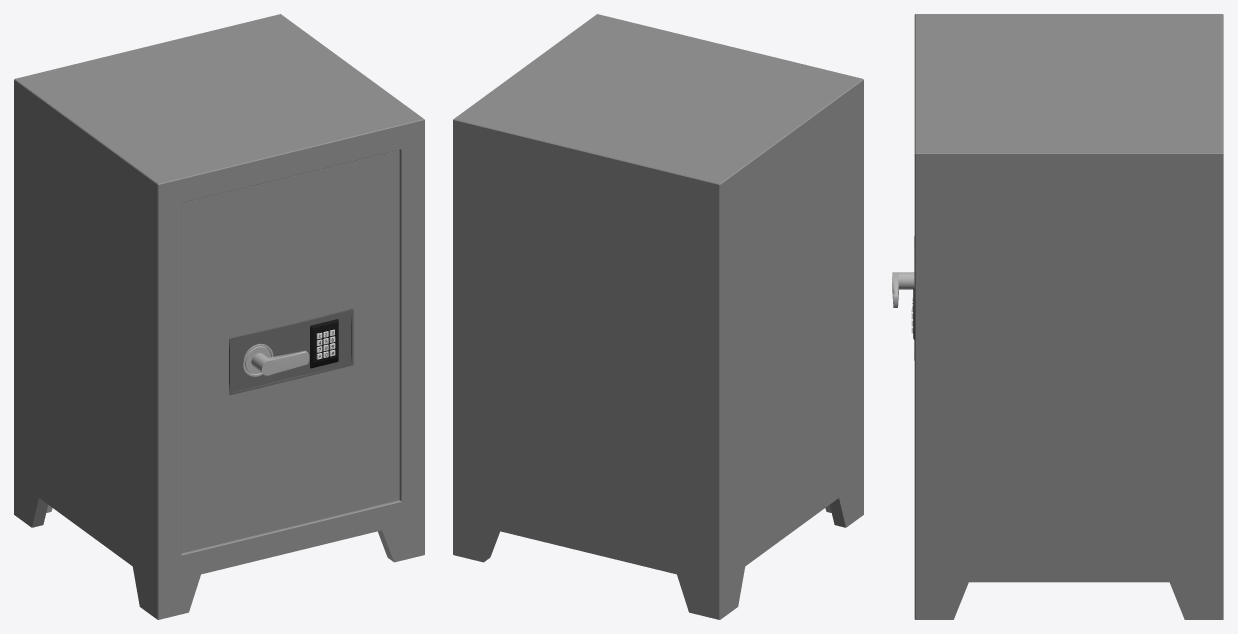
File: sweethome3d-scopia-safe-on-feet.glb
The picture shows the model from 3 angles, left to right: view 1: azimuth 30°, elevation 25°; view 2: azimuth 150°, elevation 25°; view 3: azimuth 270°, elevation 25°; orthographic projection. The views are drawn at different scales.
Parts seen in each view (by area): view 1: Safe, sweethome3d_opening_on_hinge_1_door; view 2: Safe; view 3: Safe, sweethome3d_opening_on_hinge_1_door.
Boxes of the visible parts, x1,y1,x2,y2 form: Safe: (14, 14, 424, 619); sweethome3d_opening_on_hinge_1_door: (181, 150, 399, 552); Safe: (453, 14, 863, 619); Safe: (914, 14, 1223, 619); sweethome3d_opening_on_hinge_1_door: (892, 236, 914, 360).
Size of the model in its own units: 46 by 71.67 by 46.12.
9 materials, 1 textured.
